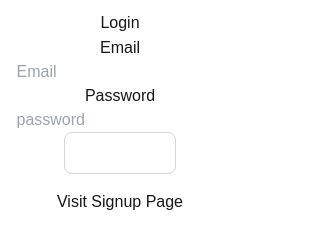
Test: LoginPage › Render button with 'Login' with both Email & Password values
Step 1. Type "test@gmail.com" into the field with placeholder "Email" → (120, 72), box [16,60,224,84]
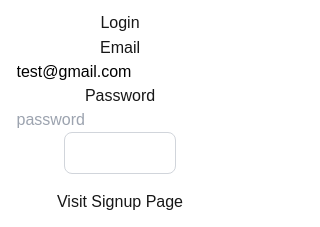
Step 2. Type "1234" into the password field with placeholder "password" → (120, 120), box [16,108,224,132]
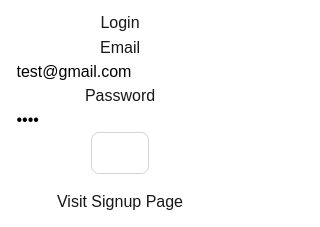
Expected: the button reads "Login", [91,132,149,174]
